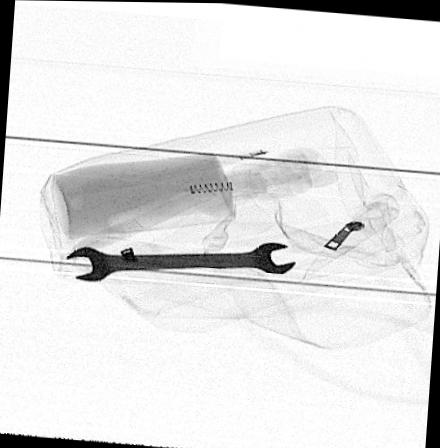Wrench: (63, 238, 296, 283)
